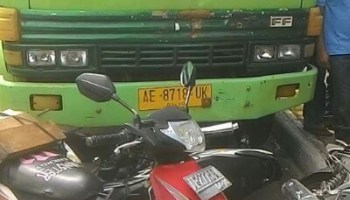plate: (138, 81, 218, 110), (183, 163, 232, 199)
